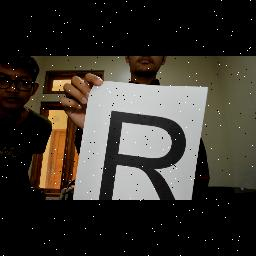r: (98, 106, 188, 200)
